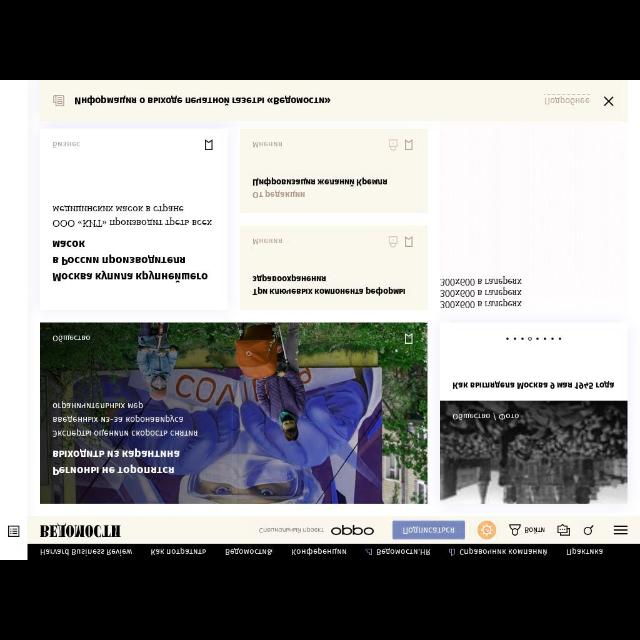icon: (556, 522, 572, 538), (602, 94, 616, 108), (612, 524, 628, 536), (509, 522, 521, 536), (582, 522, 594, 534), (404, 332, 414, 346), (388, 235, 398, 248), (9, 525, 19, 537), (404, 235, 414, 247), (404, 138, 414, 150), (53, 94, 63, 106), (389, 138, 398, 150), (204, 138, 212, 150)
iframe: (39, 80, 629, 121)
image: (40, 323, 428, 503), (440, 401, 628, 503), (40, 524, 120, 538), (331, 525, 374, 535), (477, 519, 497, 539)
multitab: (29, 544, 639, 558)
pageindicator: (504, 334, 564, 342)
text: (50, 238, 208, 282), (51, 401, 199, 437), (51, 203, 213, 229), (75, 94, 333, 108), (51, 450, 181, 476), (254, 274, 406, 296), (439, 276, 523, 308), (452, 380, 614, 390), (252, 177, 388, 185), (449, 547, 549, 557), (40, 546, 134, 556), (365, 546, 431, 556), (150, 546, 208, 556), (544, 94, 590, 106), (292, 547, 346, 557), (258, 526, 324, 534), (252, 189, 304, 199), (224, 547, 274, 557), (566, 546, 604, 556), (52, 333, 92, 342), (252, 236, 284, 246), (252, 140, 284, 148), (51, 140, 80, 148), (524, 525, 546, 533)
textbutton: (392, 520, 466, 540)
toolbar: (27, 514, 638, 542)
